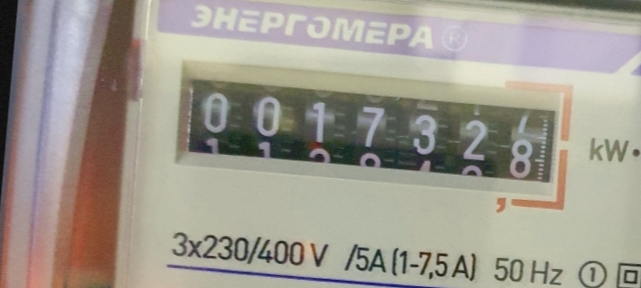0: (199, 90, 234, 137), (253, 92, 285, 140)
1: (306, 98, 332, 146)
2: (458, 117, 491, 164)
3: (410, 112, 440, 158)
7: (356, 104, 387, 152)
8: (506, 137, 535, 181)
screen: (163, 54, 583, 217)
